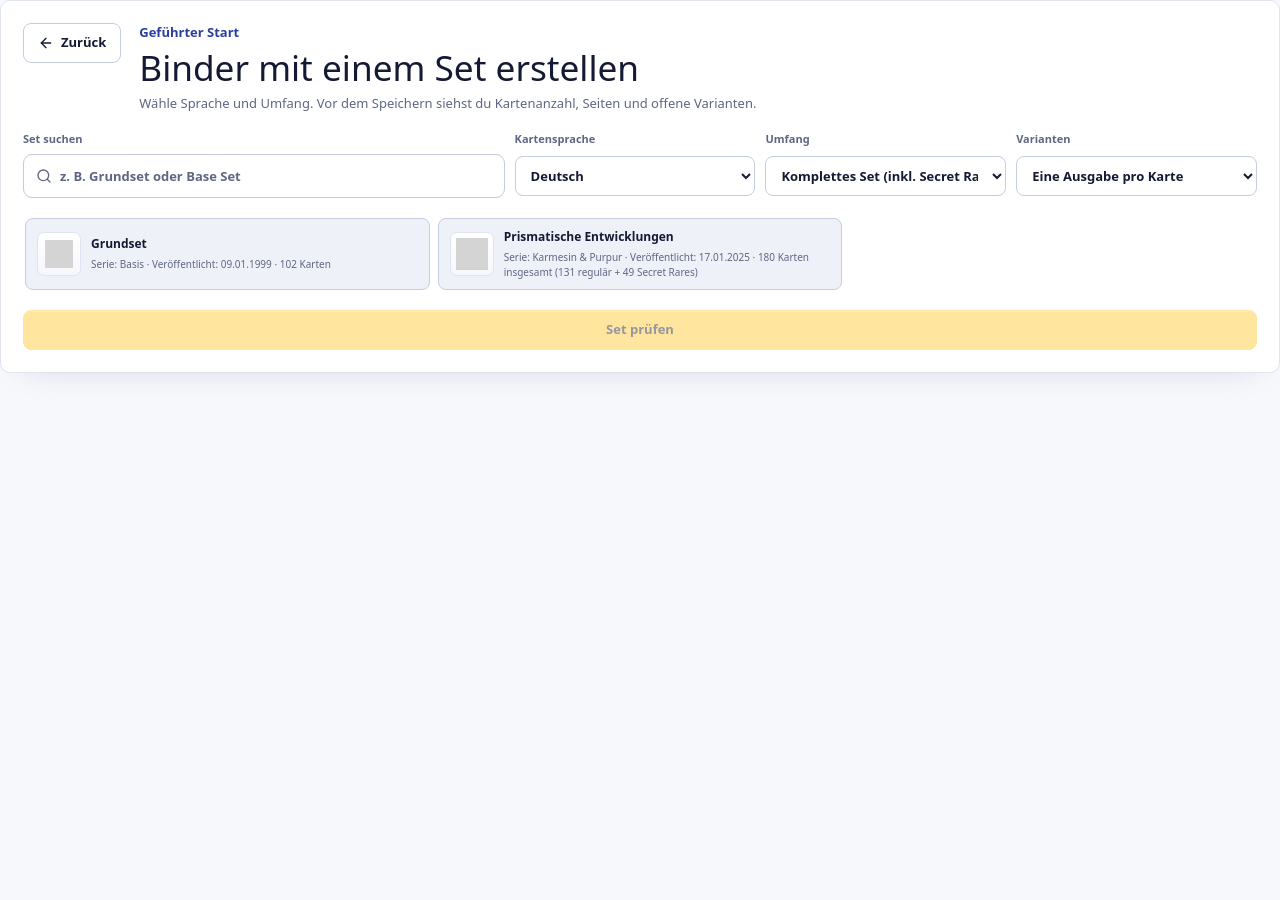
Test: SetBinderWizard › discards leaked results from another set before building the plan
Step 1. Click the button that starts with "Grundset" → (59, 254), box [25,218,430,290]
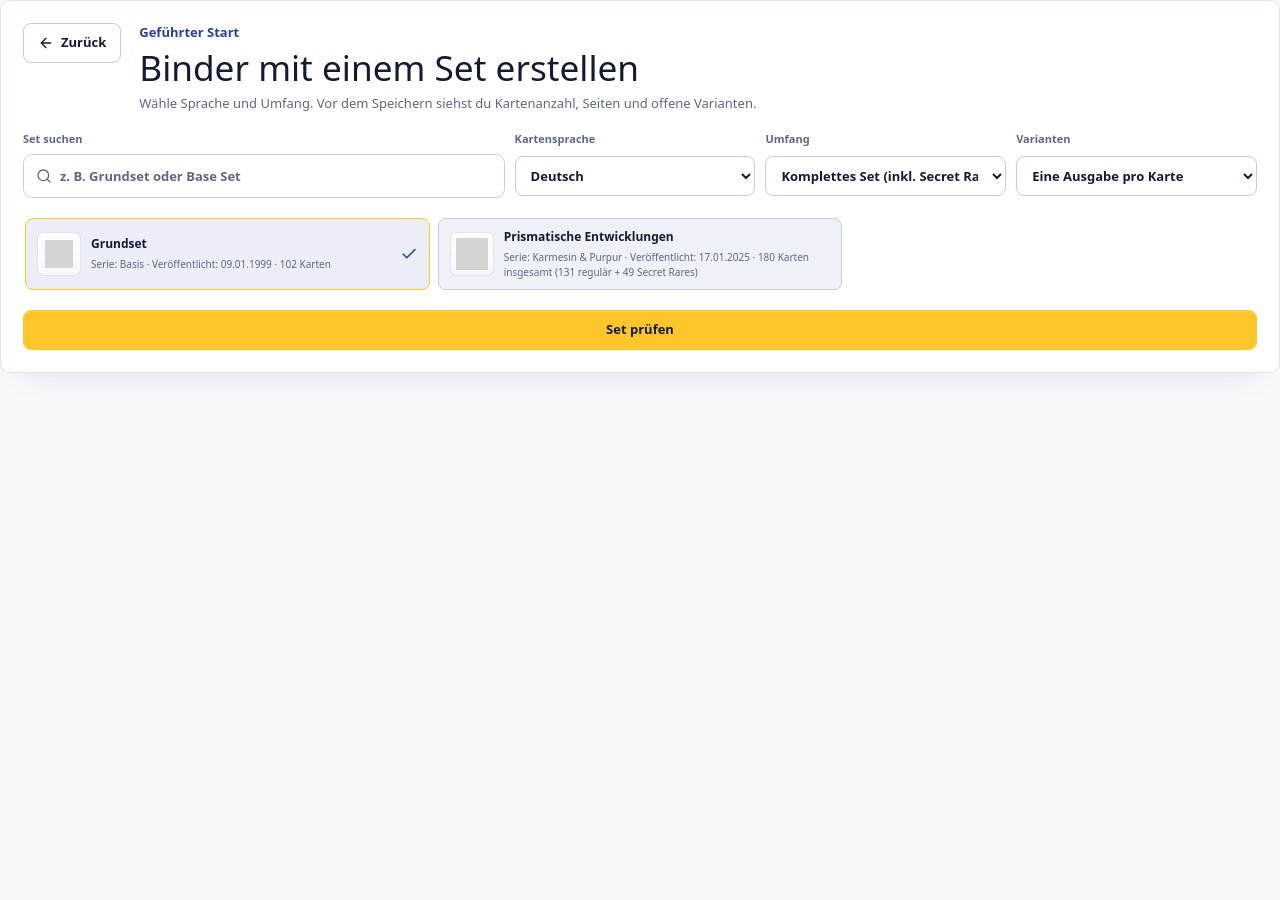
Step 2. Click the button "Set prüfen" → (640, 330), box [23,310,1257,350]
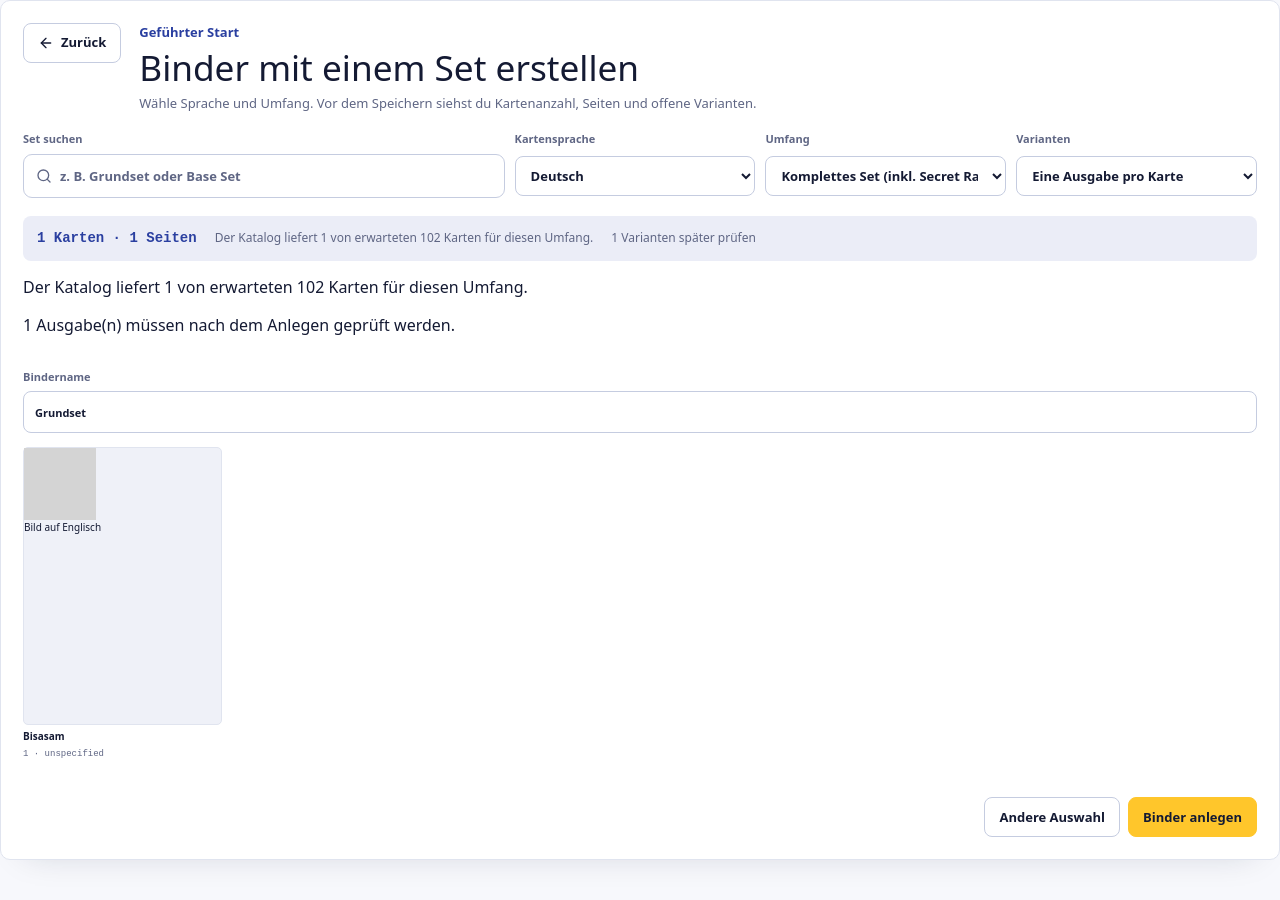
Now the field labelled "Bindername" holds "Grundset", box [23,391,1257,433]
